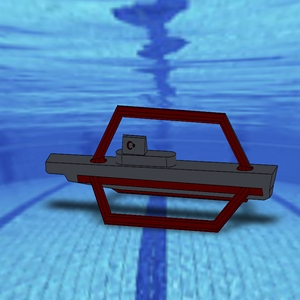submarine: (9, 64, 300, 247)
